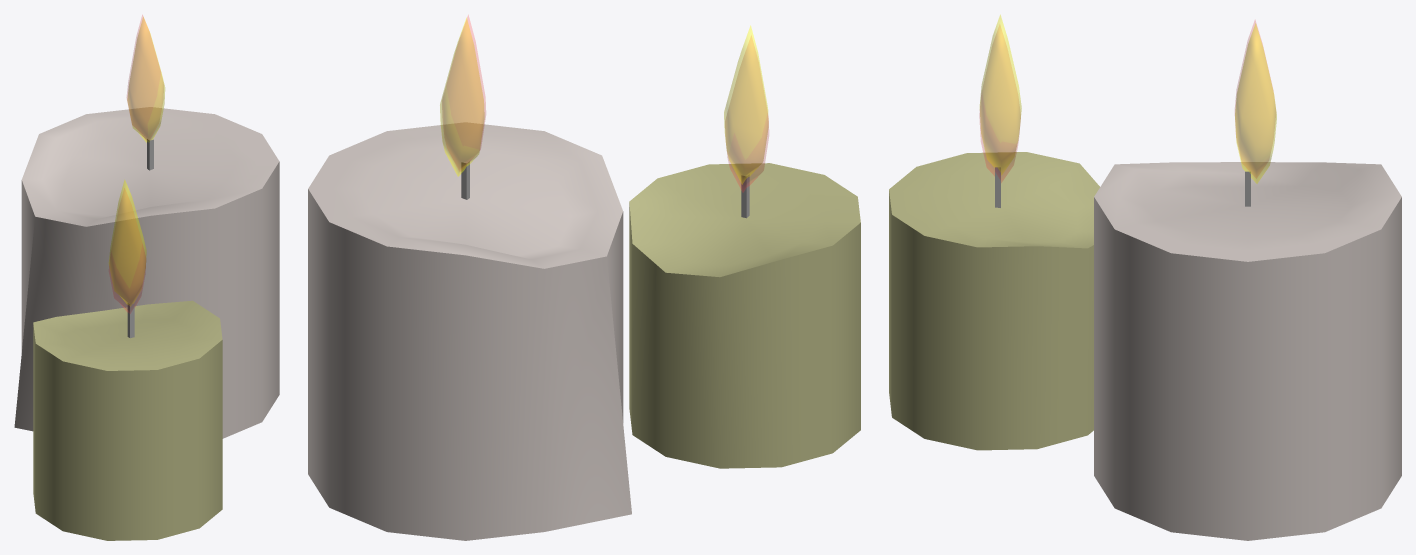
The model's file is candlelight.gltf.
The picture shows the model from 3 angles, left to right: view 1: azimuth 30°, elevation 25°; view 2: azimuth 150°, elevation 25°; view 3: azimuth 270°, elevation 25°; orthographic projection. The views are drawn at different scales.
Visible parts, largest first — view 1: pCylinder1, pCylinder2, pCube1 (×2), pCube2 (×2); view 2: pCylinder1, pCylinder2, pCube1 (×2), pCube2 (×2); view 3: pCylinder1, pCylinder2, pCube1 (×2), pCube2.
Part boxes in pixels (x1=…): pCylinder1: x1=14, y1=107, x2=279, y2=438; pCylinder2: x1=33, y1=300, x2=222, y2=540; pCube1 (×2): x1=109, y1=17, x2=164, y2=306; pCube2 (×2): x1=109, y1=15, x2=160, y2=313; pCylinder1: x1=308, y1=122, x2=631, y2=540; pCylinder2: x1=629, y1=163, x2=860, y2=468; pCube1 (×2): x1=440, y1=18, x2=768, y2=184; pCube2 (×2): x1=446, y1=15, x2=768, y2=191; pCylinder1: x1=1094, y1=162, x2=1401, y2=540; pCylinder2: x1=889, y1=152, x2=1099, y2=450; pCube1 (×2): x1=980, y1=15, x2=1276, y2=183; pCube2: x1=979, y1=93, x2=1020, y2=182.
Bounding box in the file's own units: 2.86 × 3.25 × 3.33.
